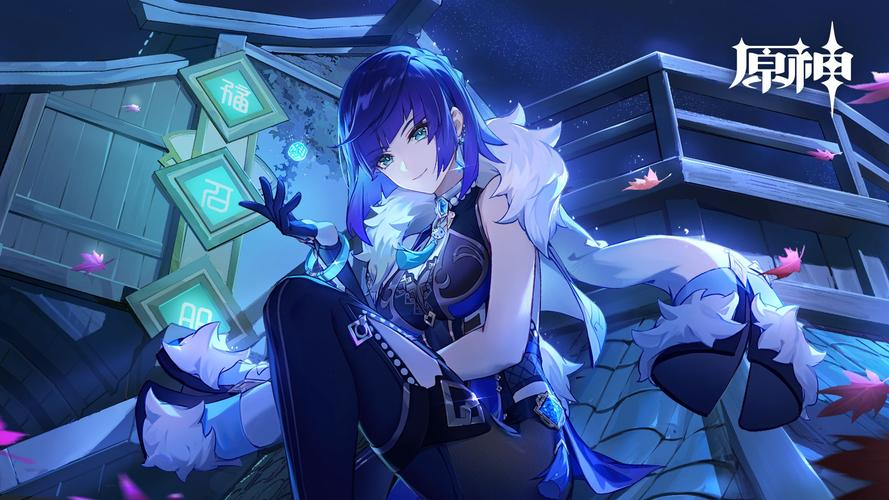夜兰: (229, 48, 573, 500)
